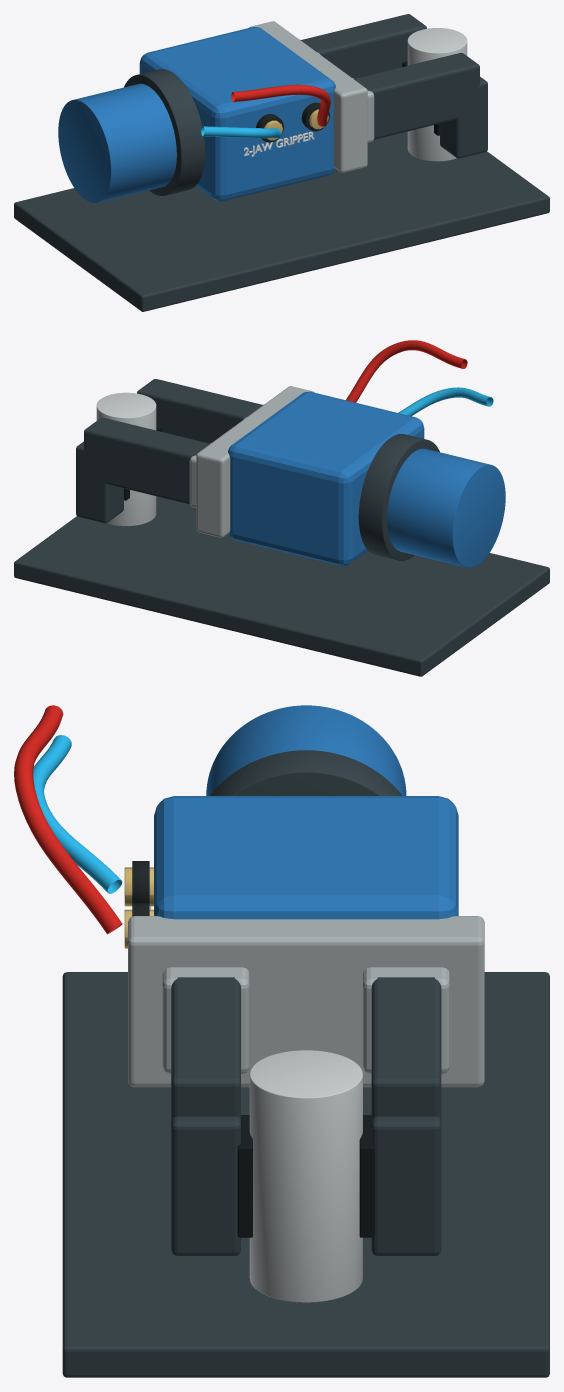
File: parallel_two_jaw_gripper.glb
3 views of the same model, one above another, from view 1: azimuth 30°, elevation 25°; view 2: azimuth 150°, elevation 25°; view 3: azimuth 270°, elevation 25° (orthographic). The views are drawn at different scales.
Visible parts, largest first — view 1: DISPLAY_BASE, GRIPPER_BODY, ROBOT_WRIST, FINGER_-0.23, FINGER_0.23, JAW_GUIDE, ROBOT_WRIST_FLANGE, WORKPIECE, HOOK_-0.23, CLOSE_AIR, OPEN_AIR, GRIPPER_LABEL (+1 smaller); view 2: DISPLAY_BASE, GRIPPER_BODY, ROBOT_WRIST, FINGER_0.23, FINGER_-0.23, JAW_GUIDE, ROBOT_WRIST_FLANGE, WORKPIECE, HOOK_0.23, CLOSE_AIR, OPEN_AIR; view 3: DISPLAY_BASE, GRIPPER_BODY, JAW_GUIDE, WORKPIECE, FINGER_0.23, FINGER_-0.23, HOOK_0.23, HOOK_-0.23, ROBOT_WRIST, ROBOT_WRIST_FLANGE, CLOSE_AIR, OPEN_AIR (+4 smaller).
Part boxes in pixels (x1=…): DISPLAY_BASE: x1=14, y1=131, x2=549, y2=311; GRIPPER_BODY: x1=139, y1=27, x2=335, y2=201; ROBOT_WRIST: x1=58, y1=83, x2=176, y2=203; FINGER_-0.23: x1=354, y1=52, x2=479, y2=139; FINGER_0.23: x1=300, y1=14, x2=426, y2=78; JAW_GUIDE: x1=249, y1=21, x2=367, y2=172; ROBOT_WRIST_FLANGE: x1=124, y1=69, x2=205, y2=196; WORKPIECE: x1=407, y1=28, x2=467, y2=161; HOOK_-0.23: x1=440, y1=77, x2=487, y2=158; CLOSE_AIR: x1=231, y1=84, x2=330, y2=126; OPEN_AIR: x1=201, y1=126, x2=281, y2=138; GRIPPER_LABEL: x1=244, y1=132, x2=314, y2=156; DISPLAY_BASE: x1=14, y1=496, x2=549, y2=676; GRIPPER_BODY: x1=228, y1=391, x2=424, y2=565; ROBOT_WRIST: x1=387, y1=448, x2=505, y2=567; FINGER_0.23: x1=84, y1=417, x2=209, y2=504; FINGER_-0.23: x1=137, y1=379, x2=262, y2=443; JAW_GUIDE: x1=196, y1=386, x2=314, y2=537; ROBOT_WRIST_FLANGE: x1=358, y1=434, x2=439, y2=560; WORKPIECE: x1=96, y1=392, x2=156, y2=526; HOOK_0.23: x1=76, y1=441, x2=123, y2=523; CLOSE_AIR: x1=346, y1=340, x2=467, y2=402; OPEN_AIR: x1=398, y1=387, x2=493, y2=416; DISPLAY_BASE: x1=62, y1=972, x2=549, y2=1377; GRIPPER_BODY: x1=154, y1=796, x2=458, y2=919; JAW_GUIDE: x1=128, y1=916, x2=484, y2=1087; WORKPIECE: x1=249, y1=1050, x2=362, y2=1302; FINGER_0.23: x1=371, y1=977, x2=441, y2=1119; FINGER_-0.23: x1=171, y1=977, x2=240, y2=1119; HOOK_0.23: x1=371, y1=1116, x2=441, y2=1255; HOOK_-0.23: x1=171, y1=1116, x2=240, y2=1255; ROBOT_WRIST: x1=206, y1=705, x2=406, y2=795; ROBOT_WRIST_FLANGE: x1=210, y1=750, x2=402, y2=795; CLOSE_AIR: x1=14, y1=705, x2=122, y2=934; OPEN_AIR: x1=33, y1=735, x2=122, y2=893.
Size of the model in its own units: 2.05 by 0.9641 by 1.23.
